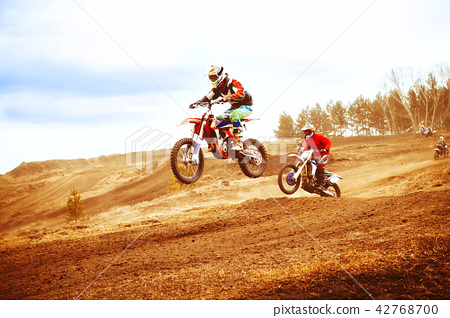helmet: (206, 61, 230, 89), (301, 122, 312, 135)
